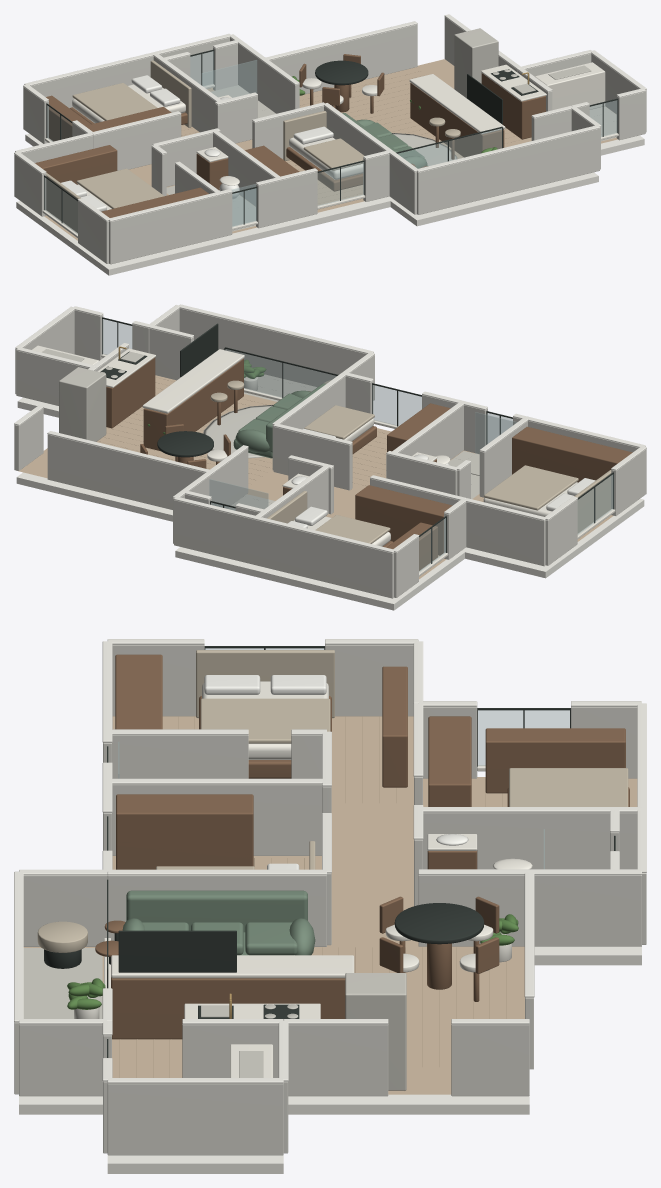
The model's file is moradas-type-2.glb.
3 renders of one model, top to bottom at view 1: azimuth 30°, elevation 25°; view 2: azimuth 150°, elevation 25°; view 3: azimuth 270°, elevation 25°, orthographic. The views are drawn at different scales.
Parts seen in each view (by area): view 1: architecture_plaster.001, architecture_cap.001, architecture_glass.001, kitchen_oak.001, living_floor.001, suite_linen.001, suite_oak.001, bedroom_linen.001, kitchen_ivory.001, kitchen_stone.001, laundry_ivory.001, single_linen.001 (+23 smaller); view 2: architecture_plaster.001, architecture_cap.001, architecture_glass.001, kitchen_oak.001, bedroom_oak.001, suite_oak.001, suite_linen.001, kitchen_stone.001, kitchen_ivory.001, architecture_floor.001, living_charcoal.001, living_sage.001 (+17 smaller); view 3: architecture_plaster.001, architecture_cap.001, architecture_floor.001, bedroom_oak.001, single_oak.001, living_sage.001, living_floor.001, kitchen_oak.001, suite_linen.001, living_charcoal.001, suite_oak.001, suite_floor.001 (+18 smaller).
Part boxes in pixels (x1,y1,x2,y2): architecture_plaster.001: (14, 17, 646, 264); architecture_cap.001: (14, 14, 646, 275); architecture_glass.001: (44, 51, 617, 233); kitchen_oak.001: (410, 73, 545, 159); living_floor.001: (299, 68, 463, 158); suite_linen.001: (46, 168, 164, 232); suite_oak.001: (35, 145, 208, 217); bedroom_linen.001: (72, 60, 191, 127); kitchen_ivory.001: (409, 64, 546, 134); kitchen_stone.001: (454, 28, 535, 98); laundry_ivory.001: (535, 62, 605, 109); single_linen.001: (283, 110, 364, 170); architecture_plaster.001: (14, 308, 646, 598); architecture_cap.001: (14, 304, 646, 610); architecture_glass.001: (102, 319, 613, 571); kitchen_oak.001: (106, 357, 243, 451); bedroom_oak.001: (355, 485, 452, 570); suite_oak.001: (512, 426, 632, 482); suite_linen.001: (484, 465, 611, 533); kitchen_stone.001: (59, 351, 144, 441); kitchen_ivory.001: (97, 348, 244, 413); architecture_floor.001: (18, 375, 613, 579); living_charcoal.001: (157, 323, 218, 457); living_sage.001: (233, 383, 325, 458); architecture_plaster.001: (14, 645, 646, 1155); architecture_cap.001: (14, 639, 646, 1173); architecture_floor.001: (23, 716, 637, 1094); bedroom_oak.001: (428, 716, 629, 806); single_oak.001: (116, 794, 253, 869); living_sage.001: (122, 890, 315, 955); living_floor.001: (113, 947, 523, 1067); kitchen_oak.001: (111, 977, 345, 1039); suite_linen.001: (196, 650, 334, 743); living_charcoal.001: (109, 903, 484, 972); suite_oak.001: (115, 654, 407, 787); suite_floor.001: (113, 717, 412, 803).
Bounding box in the file's own units: 11.25 × 1.53 × 6.8.
